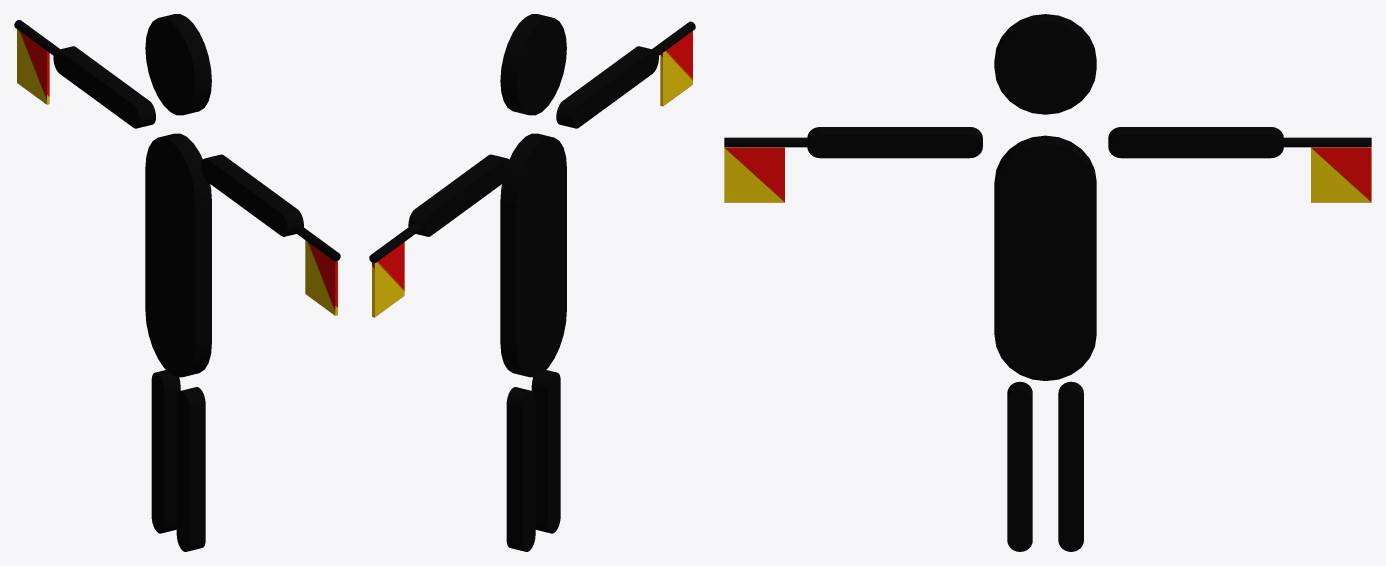
Rendered from semaphore_flag_man.dae.
The picture shows the model from 3 angles, left to right: view 1: azimuth 30°, elevation 25°; view 2: azimuth 150°, elevation 25°; view 3: azimuth 270°, elevation 25°; orthographic projection.
Visible parts, largest first — view 1: SketchUp (×10); view 2: SketchUp (×10); view 3: SketchUp (×10).
Boxes of the visible parts, <box> form: SketchUp (×10): <box>14,14,340,551</box>; SketchUp (×10): <box>369,14,695,551</box>; SketchUp (×10): <box>724,14,1371,551</box>.
Size of the model in its own units: 0.75 by 25.34 by 22.88.
